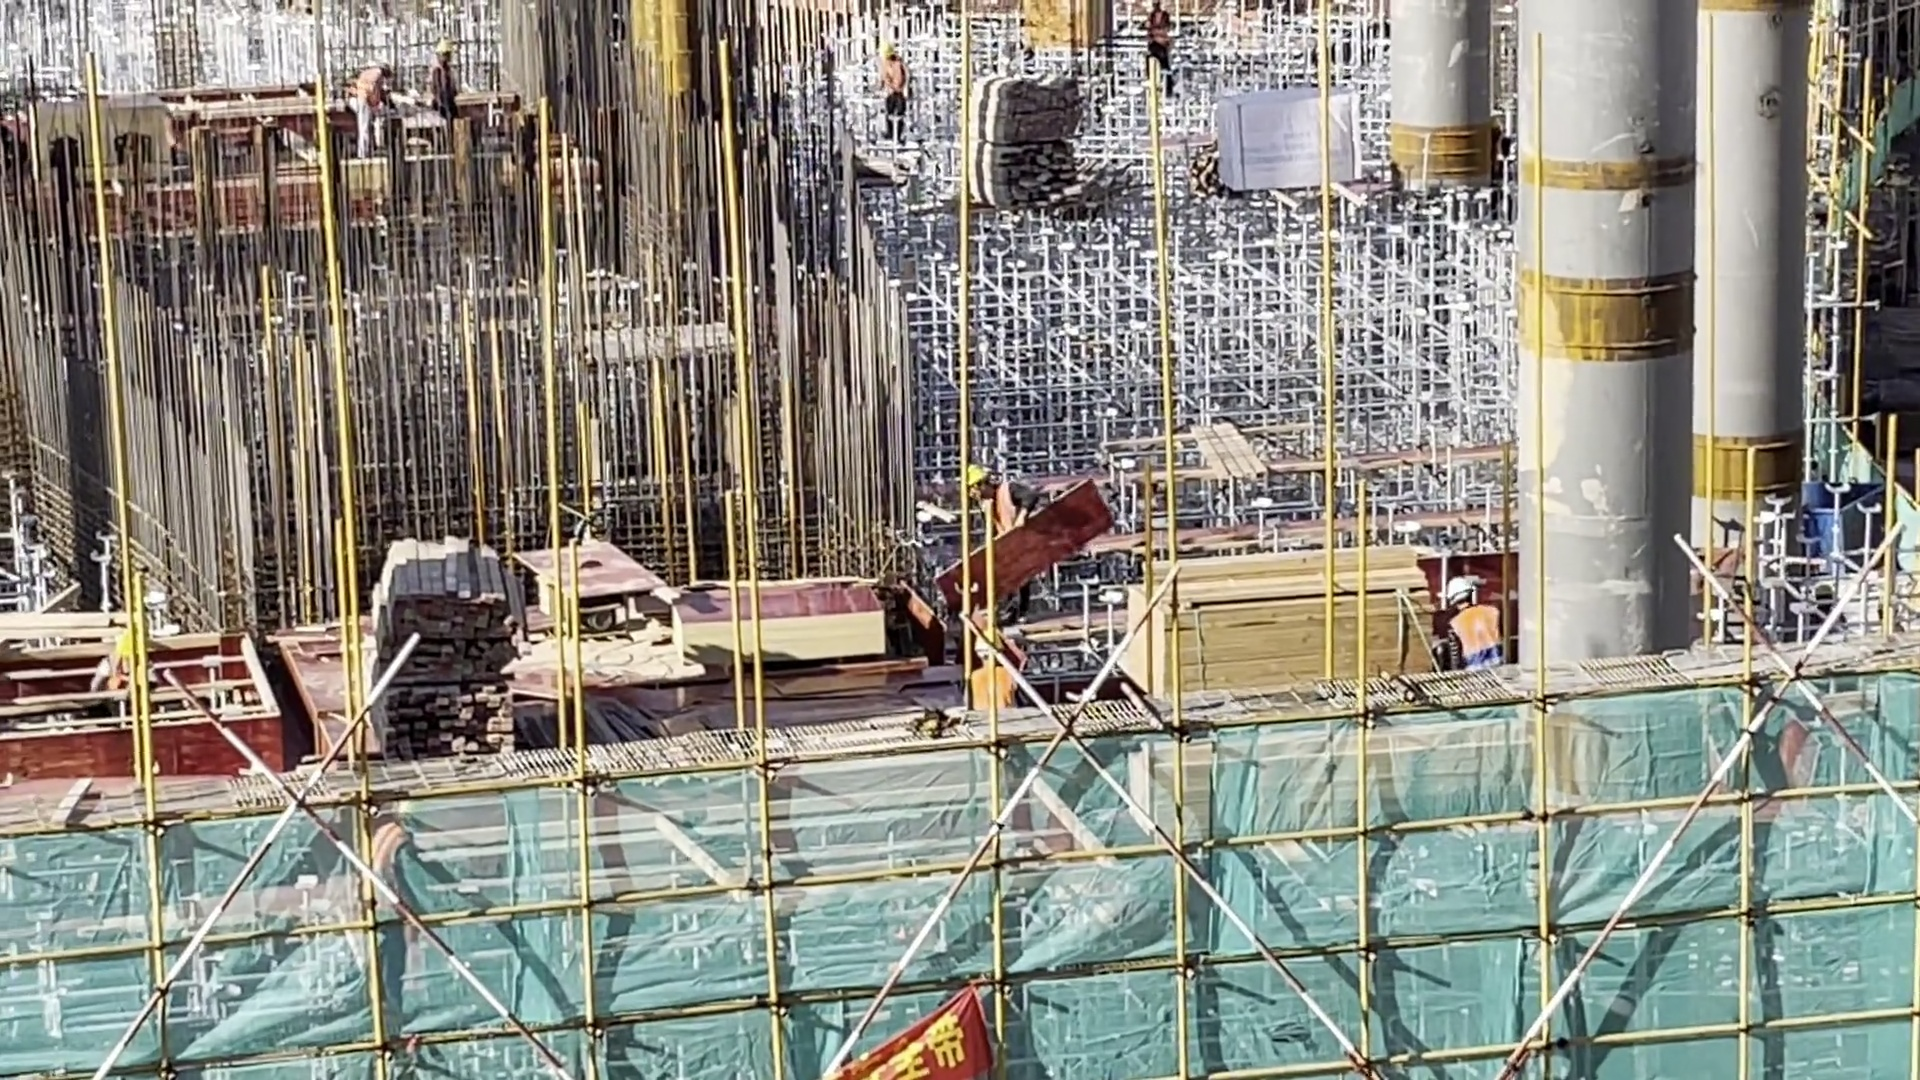helmet: (1444, 564, 1484, 611), (973, 626, 1015, 660)
person: (1429, 563, 1521, 682), (955, 630, 1034, 722)
slogan: (807, 956, 1027, 1080)
vest: (1447, 601, 1506, 667), (968, 660, 1023, 714)
wood: (1121, 534, 1447, 704), (352, 508, 543, 765)
